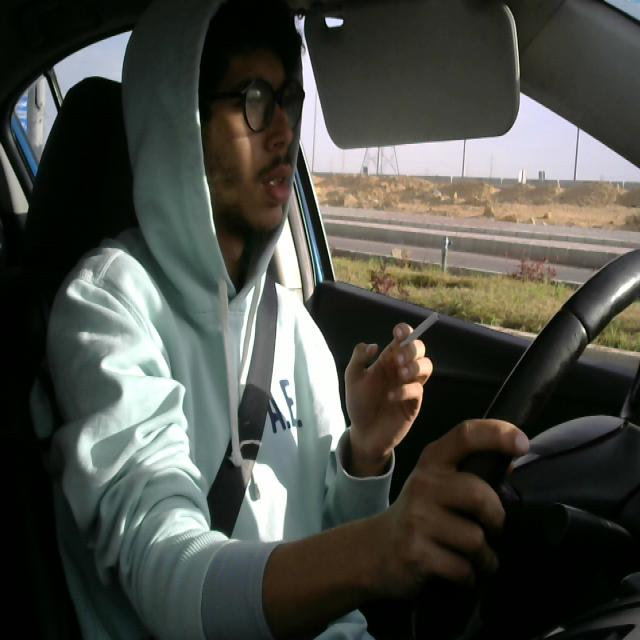smoking: (384, 304, 446, 364)
